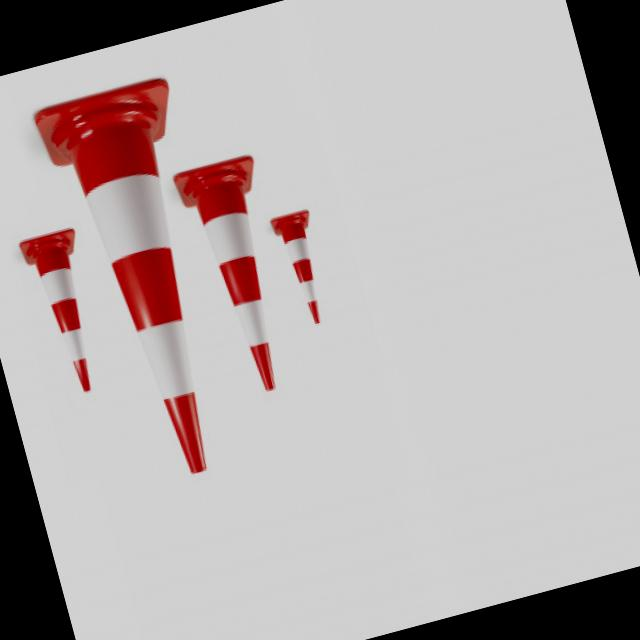cone: (32, 64, 268, 512), (166, 128, 314, 422), (5, 206, 121, 425), (263, 192, 352, 365)
